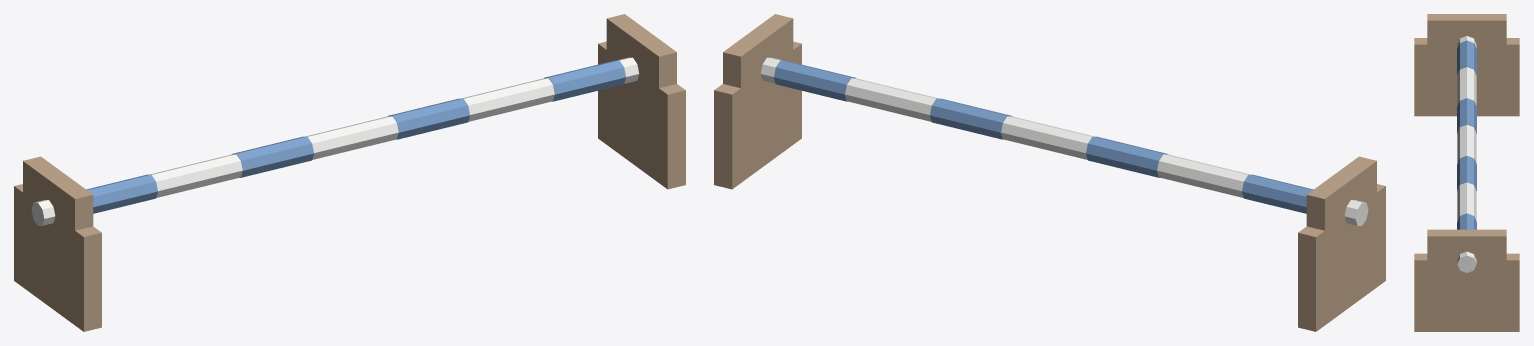
Rendered from cavaletti-high.glb.
3 renders of one model, left to right at view 1: azimuth 30°, elevation 25°; view 2: azimuth 150°, elevation 25°; view 3: azimuth 270°, elevation 25°, orthographic. The views are drawn at different scales.
Parts seen in each view (by area): view 1: cavaletti-high; view 2: cavaletti-high; view 3: cavaletti-high.
Part boxes in pixels (<box>): cavaletti-high: <box>14,14,685,331</box>; cavaletti-high: <box>714,14,1385,331</box>; cavaletti-high: <box>1414,14,1519,331</box>.
Size of the model in its own units: 3.1 by 0.6001 by 0.6001.
